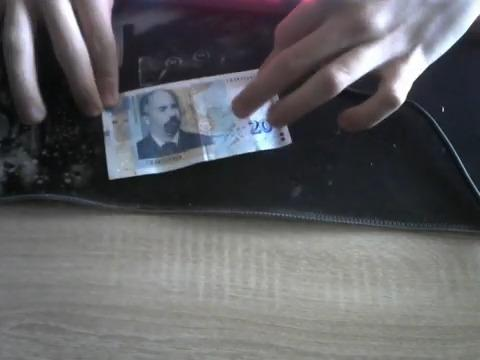20leva: (101, 70, 293, 181)
